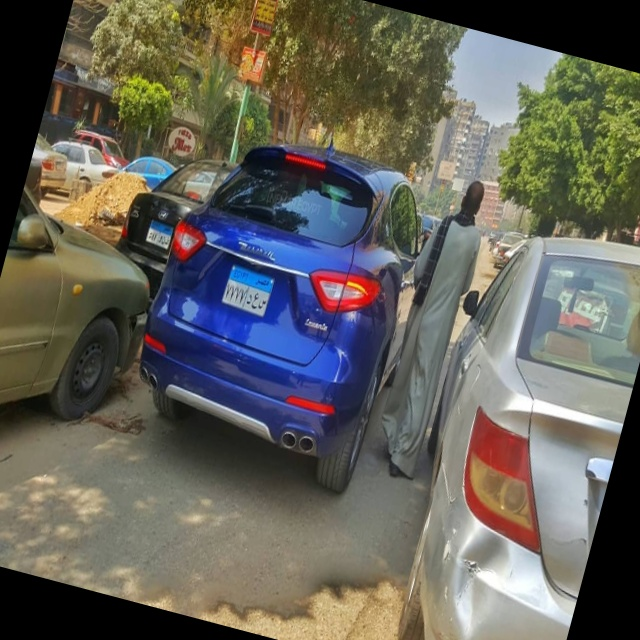License Plate: (218, 261, 278, 321), (143, 215, 176, 252)
